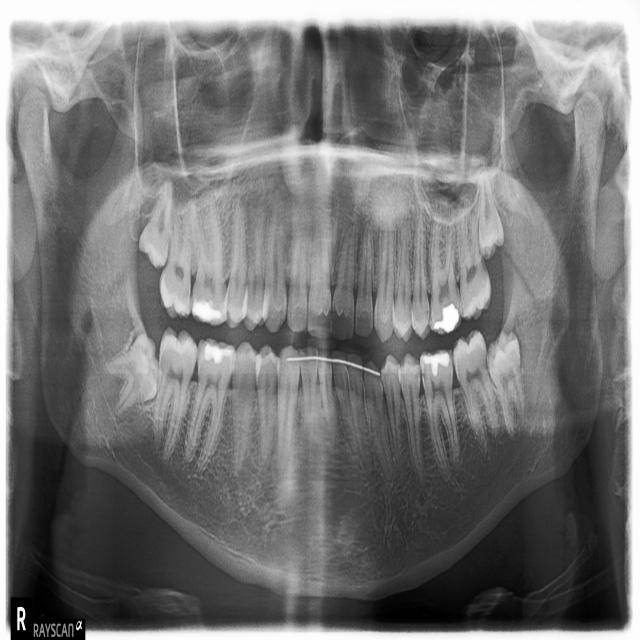mandibula: (13, 88, 605, 598)
